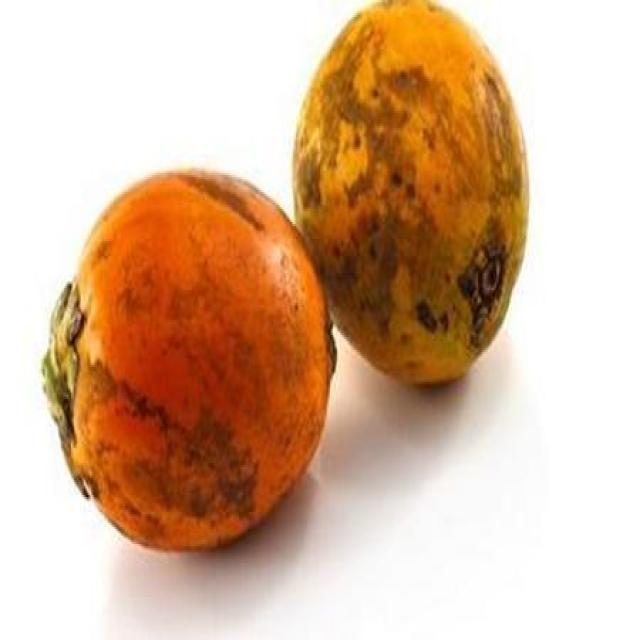good: (43, 171, 336, 555), (292, 0, 530, 390)
